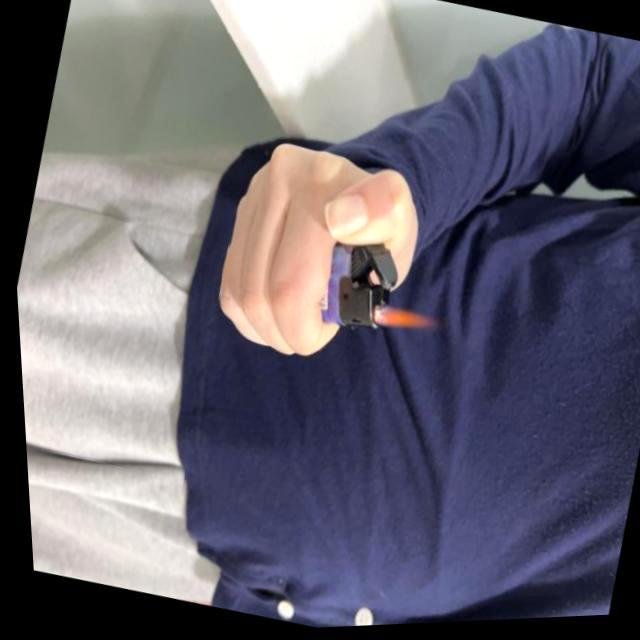fire: (367, 303, 437, 342)
